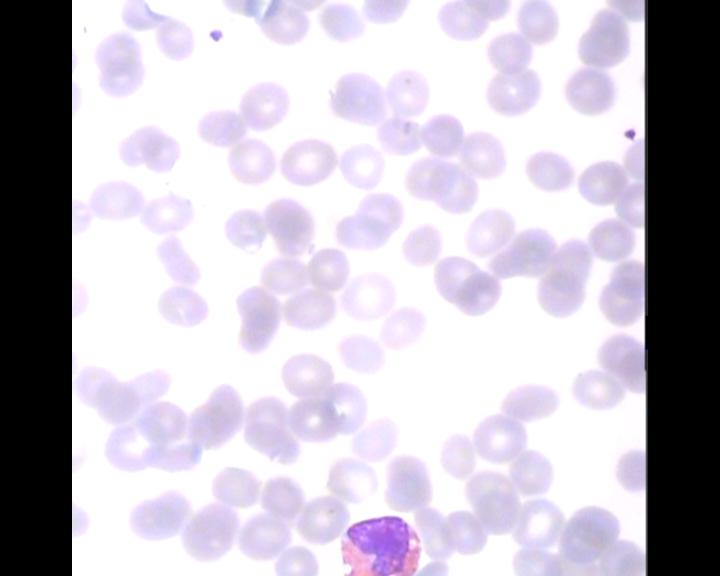eosi: (334, 510, 429, 576)
